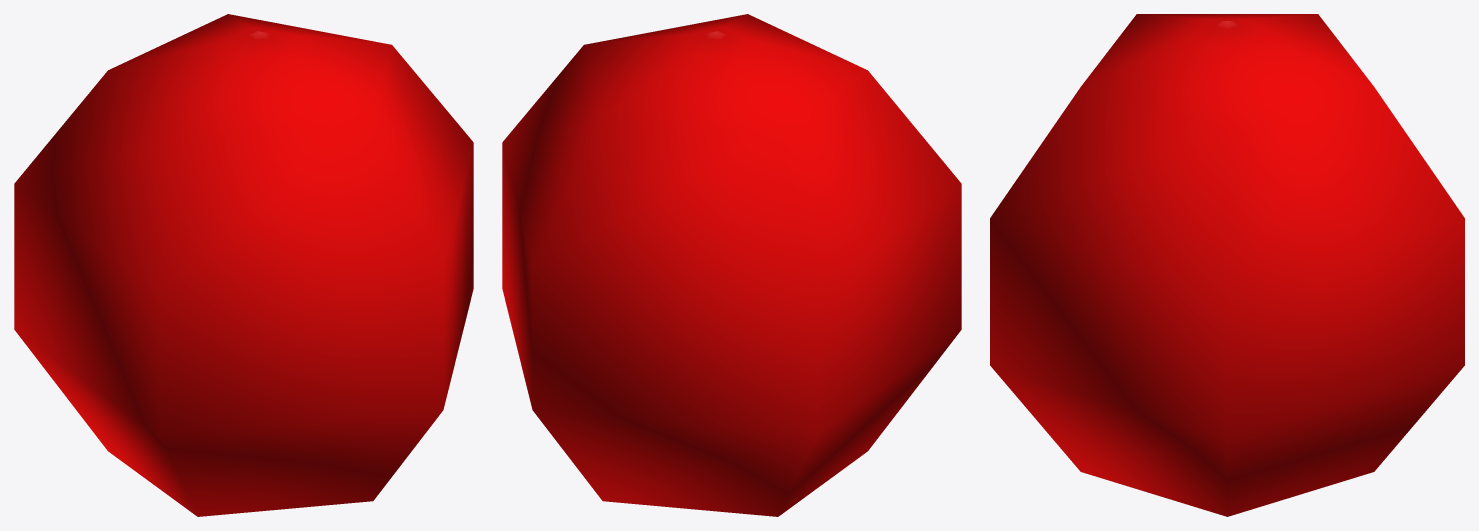
File: Apple_Tomato.fbx
3 views of the same model, side by side, from view 1: azimuth 30°, elevation 25°; view 2: azimuth 150°, elevation 25°; view 3: azimuth 270°, elevation 25° (orthographic).
Parts seen in each view (by area): view 1: Apple_Tomato_1; view 2: Apple_Tomato_1; view 3: Apple_Tomato_1.
Part boxes in pixels (x1=…): Apple_Tomato_1: x1=14, y1=14, x2=473, y2=516; Apple_Tomato_1: x1=502, y1=14, x2=961, y2=516; Apple_Tomato_1: x1=990, y1=14, x2=1464, y2=516.
Size of the model in its own units: 17.56 by 20.41 by 18.46.
